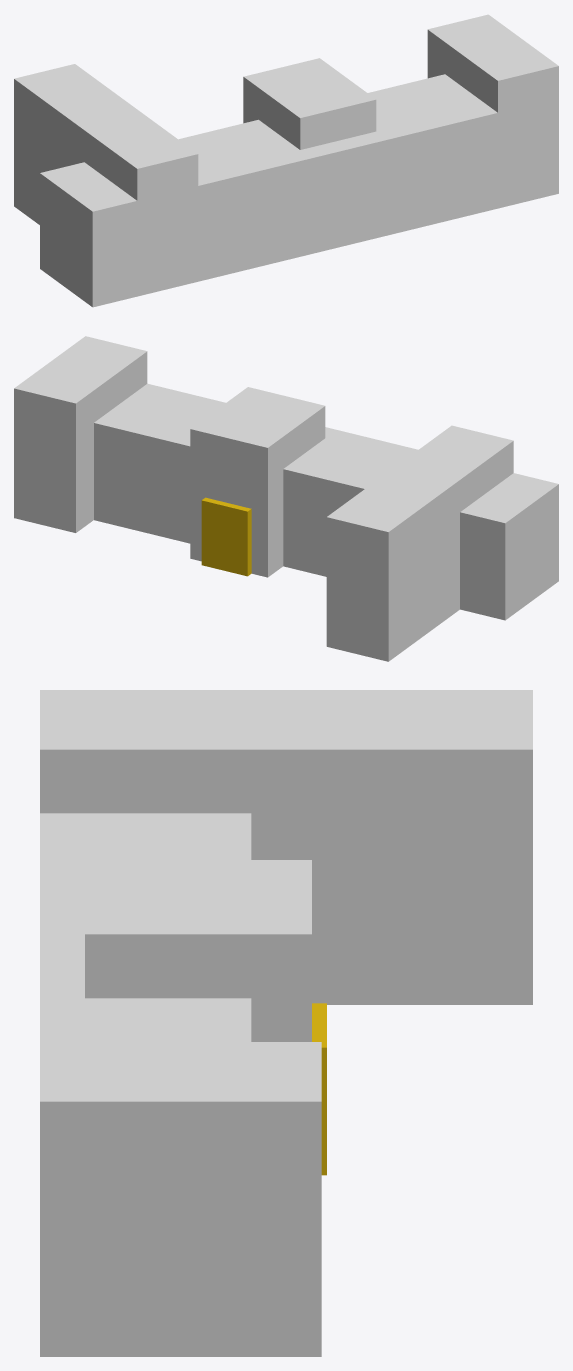
The picture shows the model from 3 angles, top to bottom: view 1: azimuth 30°, elevation 25°; view 2: azimuth 150°, elevation 25°; view 3: azimuth 270°, elevation 25°; orthographic projection. The views are drawn at different scales.
Visible parts, largest first — view 1: Cube, Cube.003, Cube.002, Cube.001; view 2: Cube, Cube.003, Cube.002, Cube.001, Cube.004; view 3: Cube.003, Cube.002, Cube.001, Cube, Cube.004.
Part boxes in pixels (x1,y1,x2,y2): Cube: [40, 74, 550, 307]; Cube.003: [14, 64, 198, 296]; Cube.002: [427, 14, 558, 199]; Cube.001: [243, 58, 376, 149]; Cube: [94, 383, 558, 620]; Cube.003: [326, 425, 513, 661]; Cube.002: [14, 336, 147, 532]; Cube.001: [190, 387, 325, 577]; Cube.004: [201, 497, 251, 576]; Cube.003: [40, 690, 532, 1004]; Cube.002: [40, 1042, 321, 1356]; Cube.001: [85, 860, 311, 1041]; Cube: [40, 813, 251, 1041]; Cube.004: [312, 1003, 326, 1175].
Bounding box in the file's own units: 30.57 × 8 × 14.
